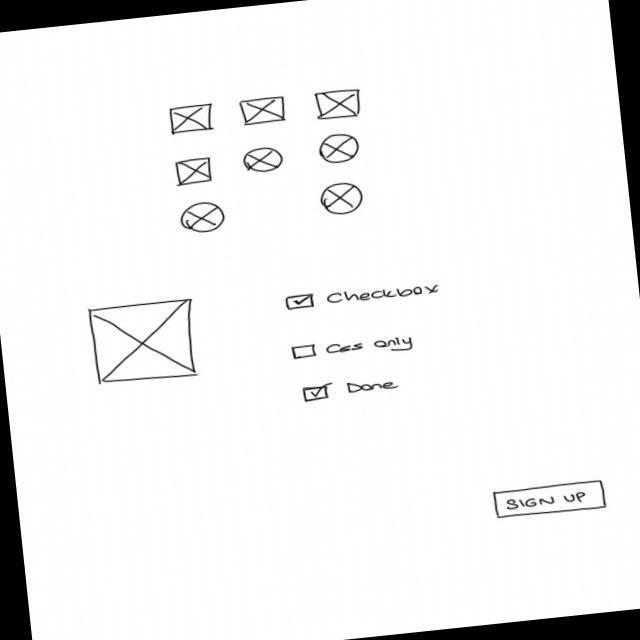button: (492, 479, 609, 521)
checkbox: (284, 280, 445, 313), (292, 332, 420, 367), (301, 375, 402, 405)
image: (87, 298, 202, 389), (319, 180, 367, 218), (178, 200, 227, 236), (314, 88, 363, 122), (168, 103, 217, 136), (239, 97, 288, 128), (318, 132, 361, 166), (174, 156, 216, 188), (243, 146, 285, 176)
